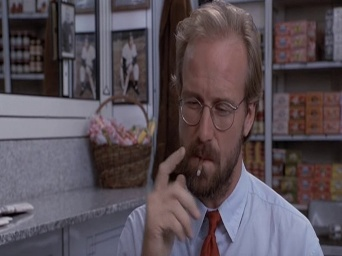smoke: (196, 154, 204, 177)
